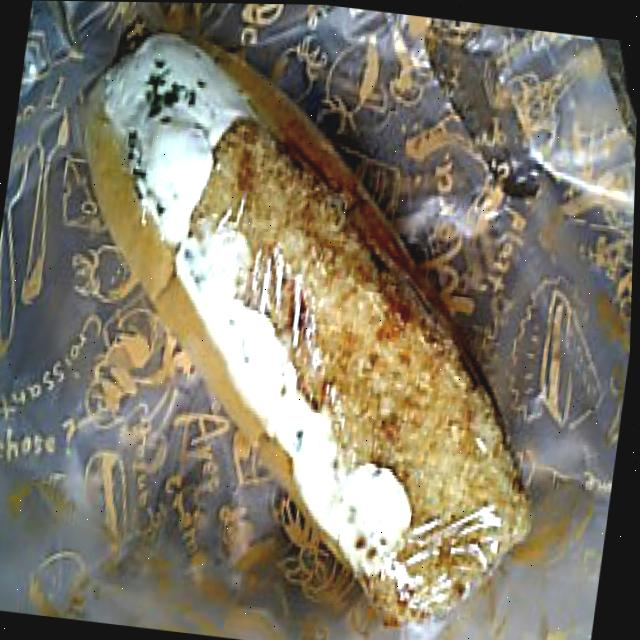三明治: (7, 0, 620, 640)
